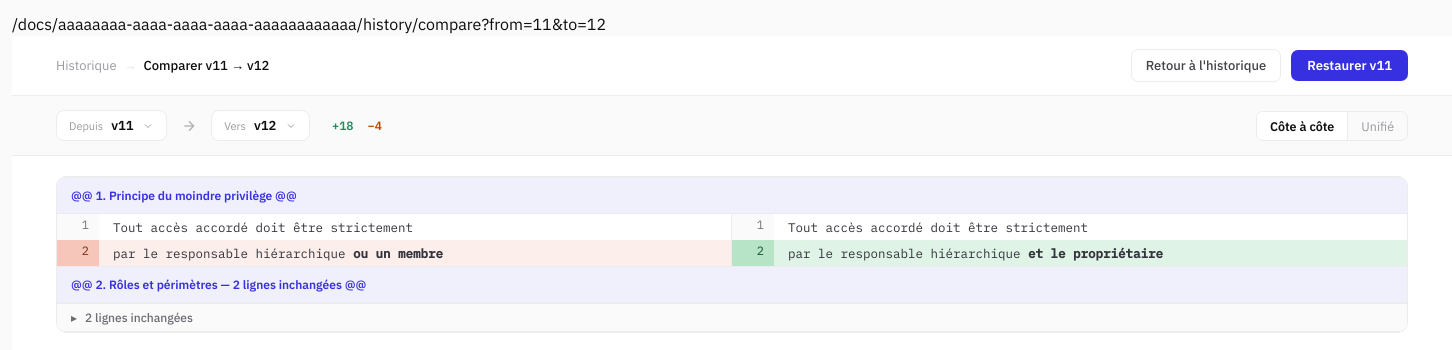
Test: DocumentComparePage › changer « Depuis » recharge la comparaison et met l’URL à jour
Expected: the element with test id "diff-view" is shown, [56,176,1408,333]
Select "v10" in the dropdown with test id "diff-select-from" at [123, 126], box [111,117,134,134]
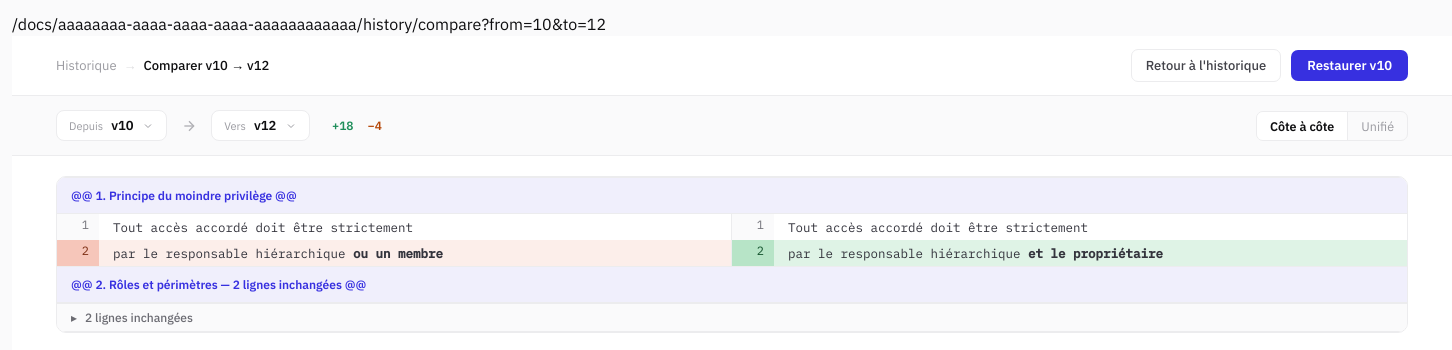
Now the text with test id "loc" shows "from=10", box [12,14,606,34]
